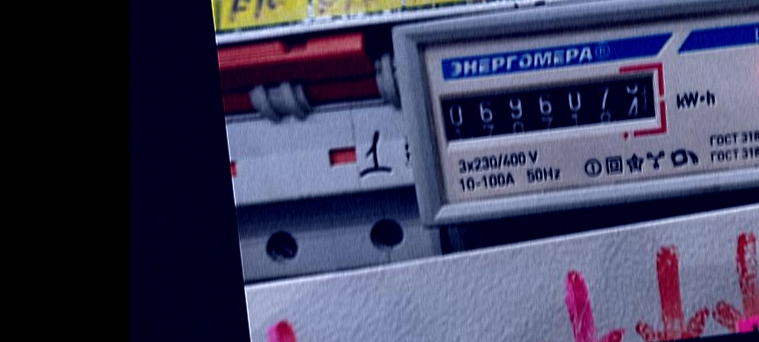0: (445, 101, 464, 127), (564, 86, 581, 112)
4: (622, 94, 641, 120)
6: (534, 90, 554, 116), (475, 98, 494, 124)
7: (594, 84, 612, 112)
9: (504, 95, 523, 120)
screen: (423, 56, 672, 157)
